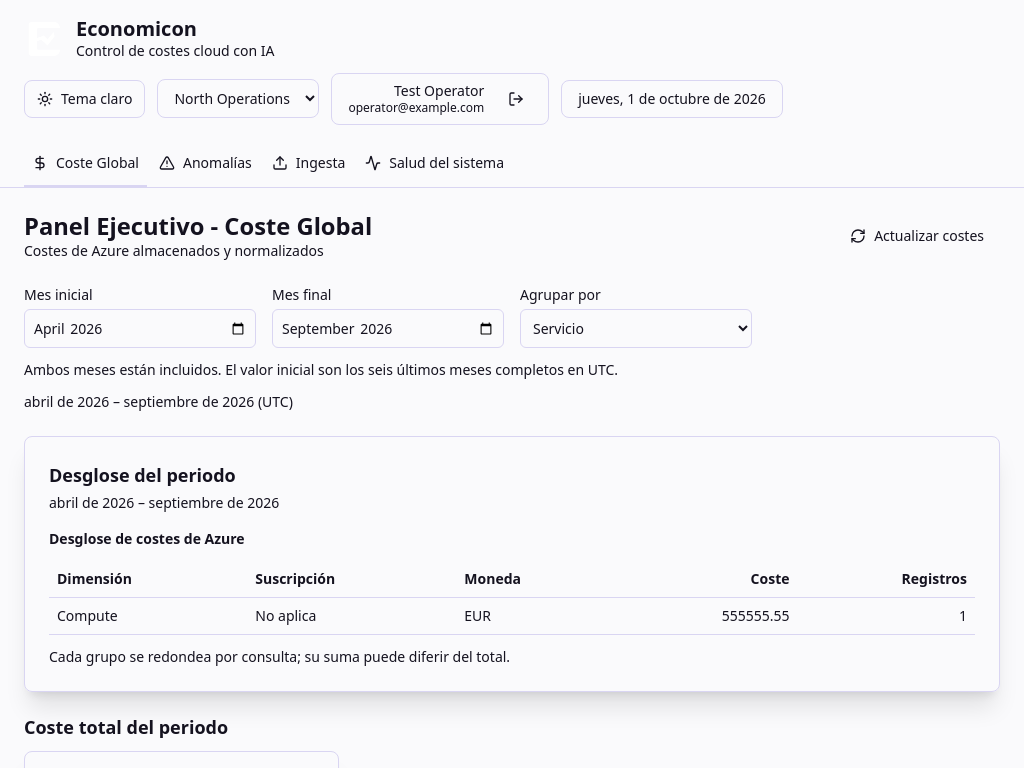
Test: JUP-055: controles y límites adicionales › tag mensual canónico incompatible no se usa como punto
Check: the heading "Panel Ejecutivo - Coste Global" is shown, box [24,212,372,241]
Step 1. Select "Etiqueta" in the dropdown labelled "Agrupar por" → point(636, 329), box [520,309,752,348]
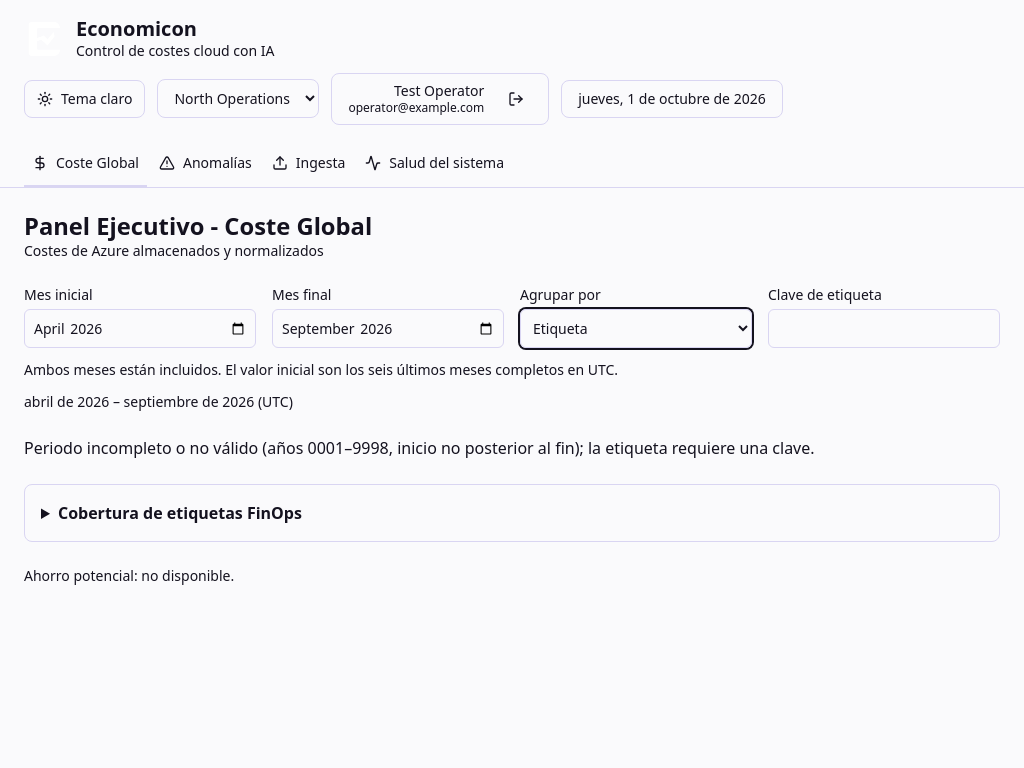
Step 2. Type "CostCenter" into the field labelled "Clave de etiqueta" → point(884, 329), box [768,309,1000,348]
(page scrolled)
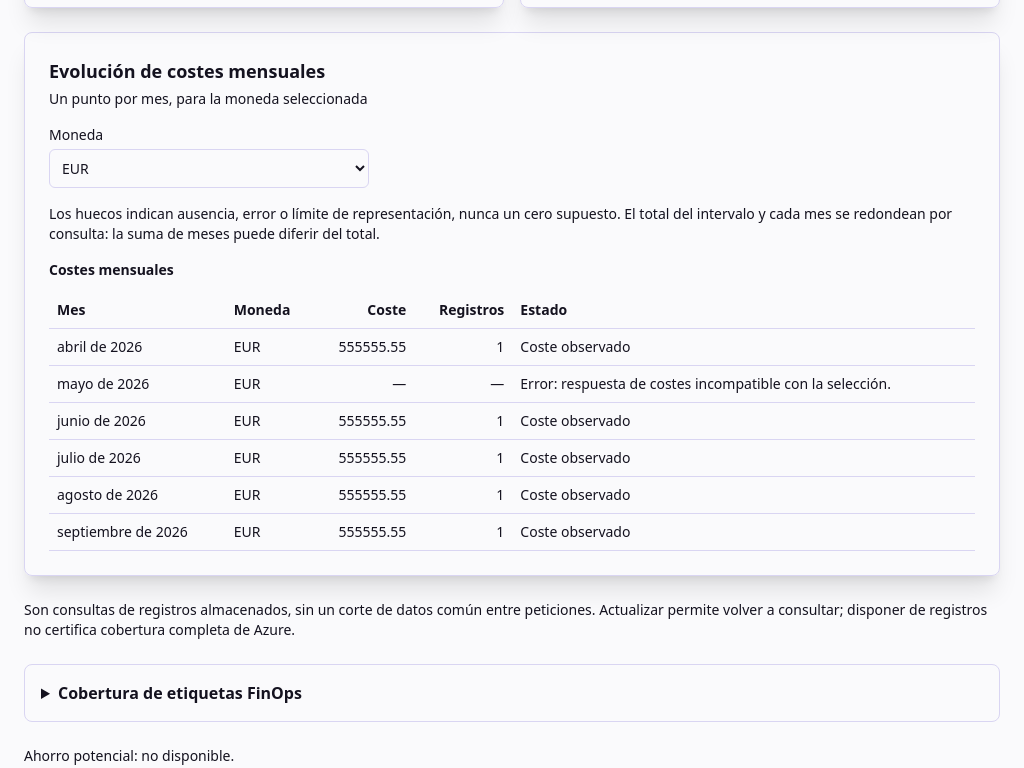
Check: the table is shown, box [49,260,975,551]
